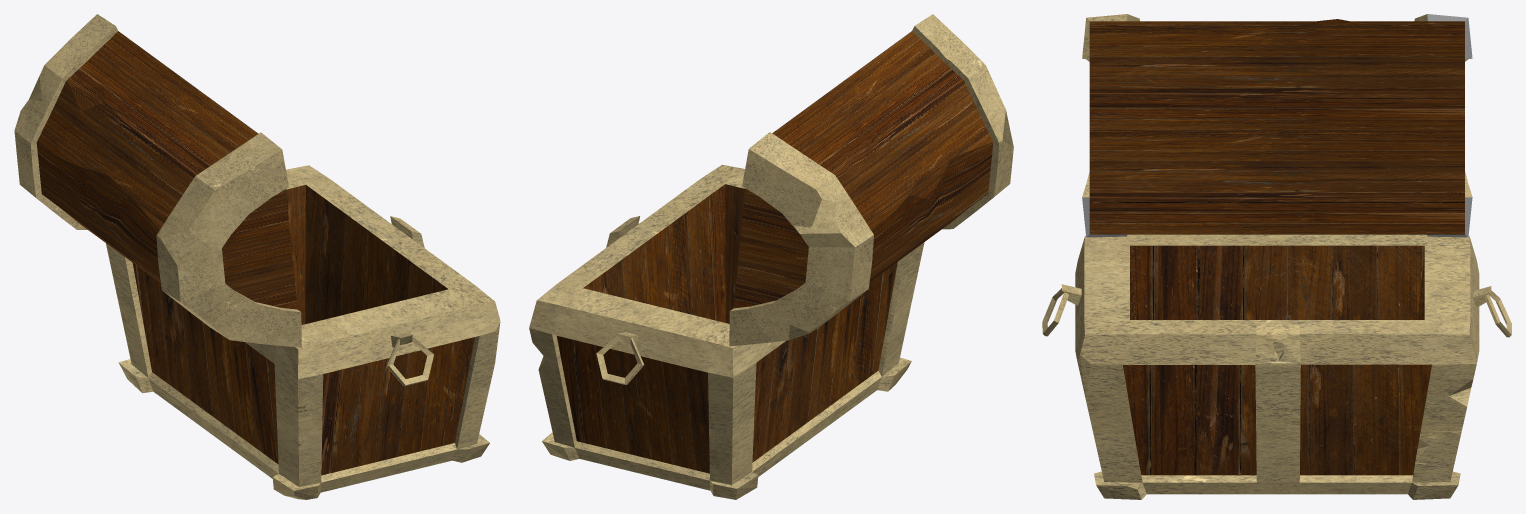
The model's file is chestfinal4.fbx.
The picture shows the model from 3 angles, left to right: view 1: azimuth 30°, elevation 25°; view 2: azimuth 150°, elevation 25°; view 3: azimuth 270°, elevation 25°; orthographic projection. The views are drawn at different scales.
Visible parts, largest first — view 1: ChestBase, ChestLid, pasted__pasted__pTorus1; view 2: ChestBase, ChestLid, pasted__pTorus1; view 3: ChestBase, ChestLid, pasted__pasted__pTorus1, pasted__pTorus1.
Boxes of the visible parts, box(x1,y1,x2,y2) form: ChestBase: box(106, 165, 500, 499); ChestLid: box(14, 14, 301, 347); pasted__pasted__pTorus1: box(386, 332, 433, 386); ChestBase: box(529, 164, 924, 499); ChestLid: box(729, 14, 1013, 346); pasted__pTorus1: box(596, 332, 644, 384); ChestBase: box(1075, 234, 1479, 499); ChestLid: box(1082, 14, 1472, 237); pasted__pasted__pTorus1: box(1042, 284, 1081, 336); pasted__pTorus1: box(1473, 286, 1511, 337).
Size of the model in its own units: 3.97 by 4.31 by 4.84.
5 materials, 4 textured.
